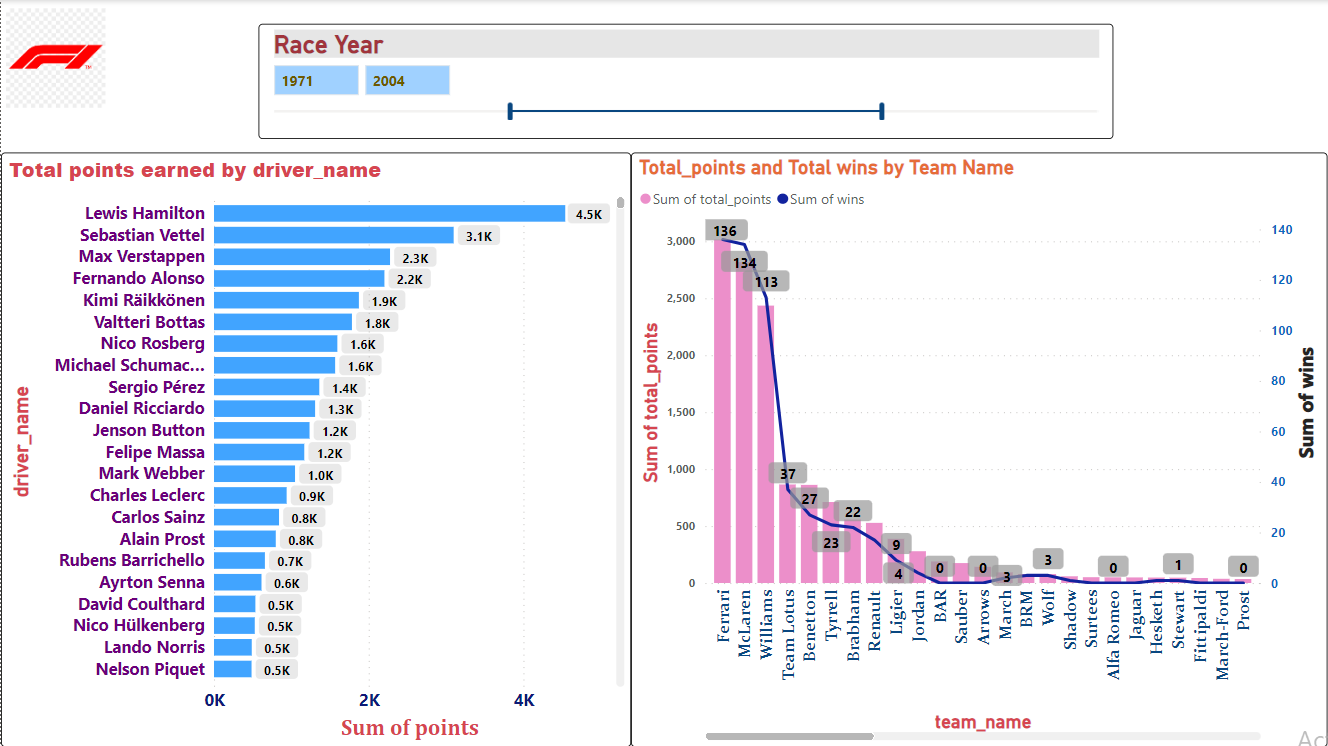

Layout of this report page (visuals, bound fields, positions):
{"tool":"powerbi","page":{"name":"Page 1","canvas":[1280,720],"ordinal":0},"visuals":[{"type":"clusteredBarChart","title":"Total points earned by driver_name","fields":{"Category":["race_results.driver_name"],"Y":["race_results.points"]},"box":[0,146.8,607.9,573.6],"z":0},{"type":"lineClusteredColumnComboChart","title":"Total_points and Total wins by Team Name","fields":{"Category":["constructorstandings.team_name"],"Y":["constructorstandings.total_points"],"Y2":["constructorstandings.wins"]},"box":[607.9,146.8,672.4,573.6],"z":1},{"type":"slicer","fields":{"Values":["constructorstandings.race_year"]},"box":[248.4,23.3,824.7,111.1],"z":2},{"type":"image","box":[0,0,105.7,111.1],"z":3}]}

Visuals, with their boxes in screenshot pixels (x1, y1, x2, y2), scaled from the page's 1280x720 canvas onto the 1328x746 screenshot:
"Total points earned by driver_name" clusteredBarChart: detection(0, 152, 631, 745)
"Total_points and Total wins by Team Name" lineClusteredColumnComboChart: detection(631, 152, 1327, 745)
slicer - constructorstandings.race_year: detection(258, 24, 1113, 139)
image: detection(0, 0, 110, 115)
